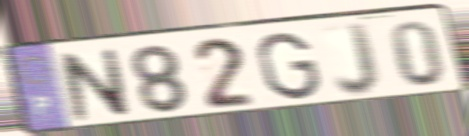0: (387, 19, 448, 88)
2: (192, 35, 258, 112)
8: (129, 43, 190, 115)
G: (254, 30, 323, 102)
J: (332, 21, 383, 99)
N: (57, 46, 134, 124)
